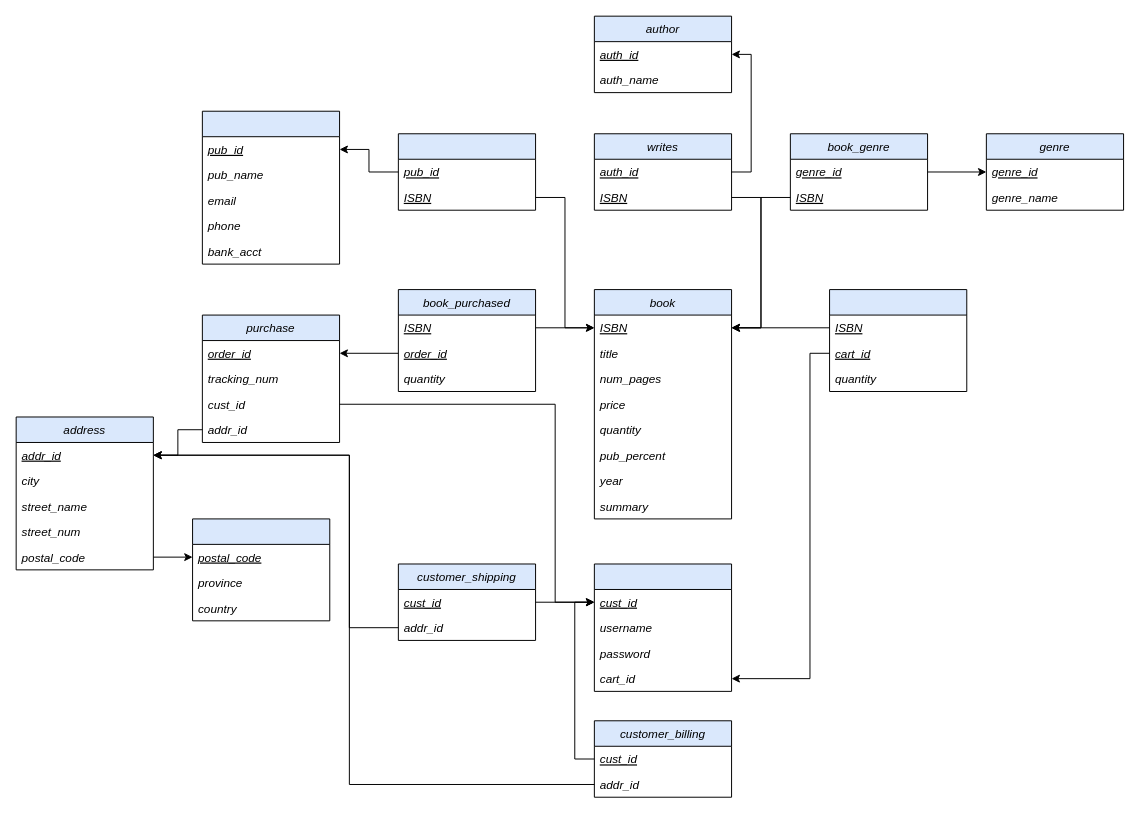
The diagram is 1140 pixels wide and 813 high, and some of its shapes have lost their labels. Here are the shapes that lost their labels. From the top down, the box of each, then its label:
(201, 110, 340, 264): publisher
(397, 133, 536, 210): published
(829, 289, 967, 392): book_in_cart
(192, 518, 330, 621): postal_area
(593, 563, 732, 691): customer
